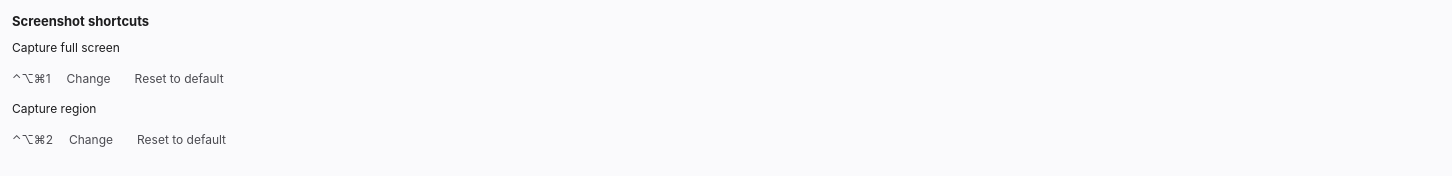
Test: the screenshot shortcuts section › sends the physical key and modifiers and shows the accepted combination
This screenshot has width=1452, height=176.
Click the button with aria-label "Change Capture region shortcut, currently ⌃⌥⌘2" at {"x": 91, "y": 140}, box x1=61 y1=126 x2=121 y2=154
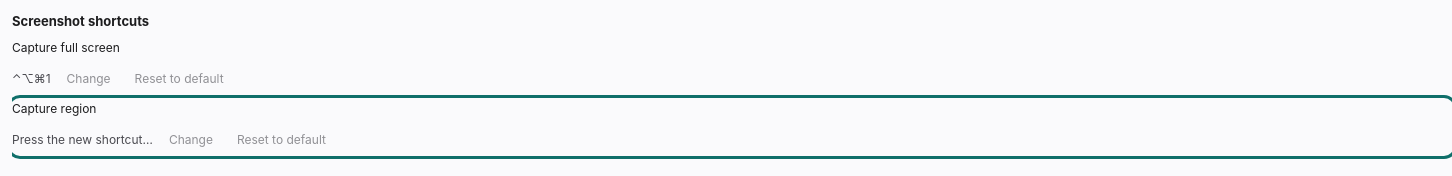
Expected: the text "Press the new shortcut…" is shown, x1=12 y1=131 x2=153 y2=148
Type keys "{Control>}{Alt>}r{/Alt}{/Control}"
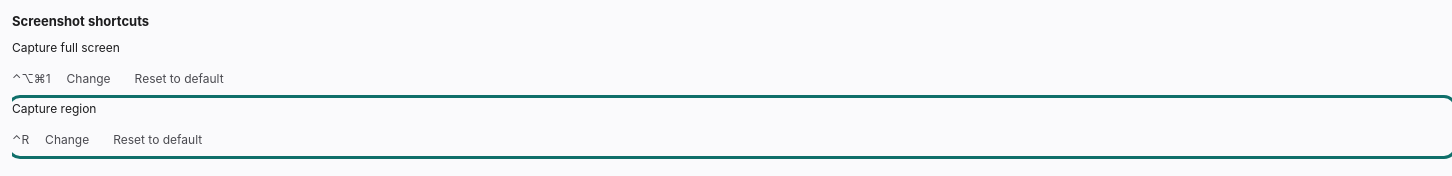
Expected: the text "⌃R" is shown, x1=12 y1=131 x2=29 y2=148
